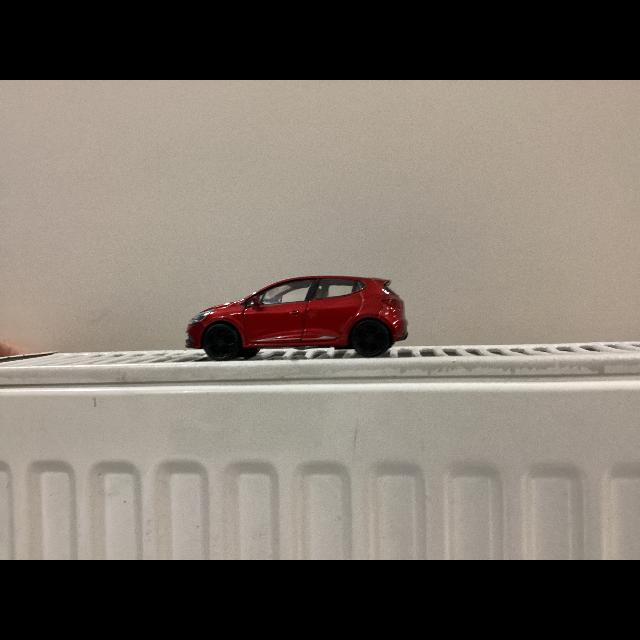Dogru_Jant: (208, 327, 235, 357), (358, 325, 382, 351)
